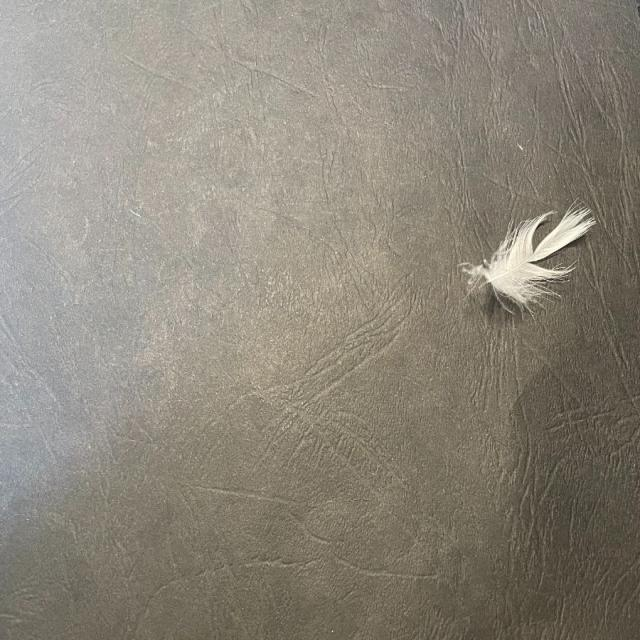feather: (460, 196, 604, 319)
